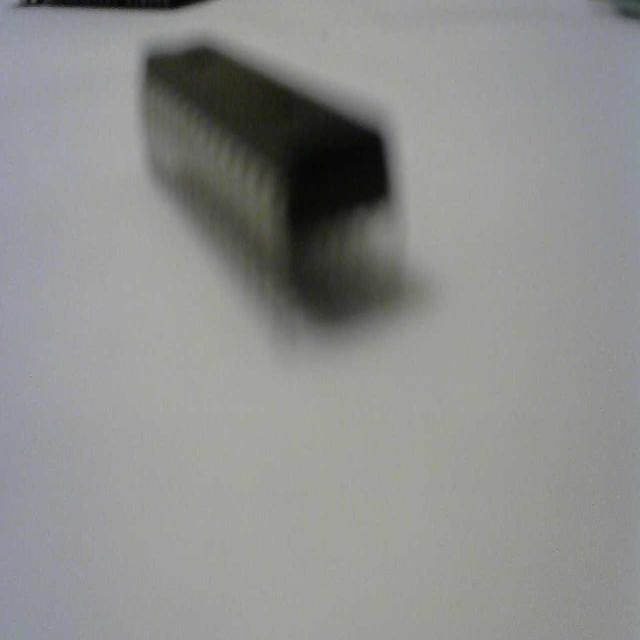atmega: (137, 34, 413, 335)
